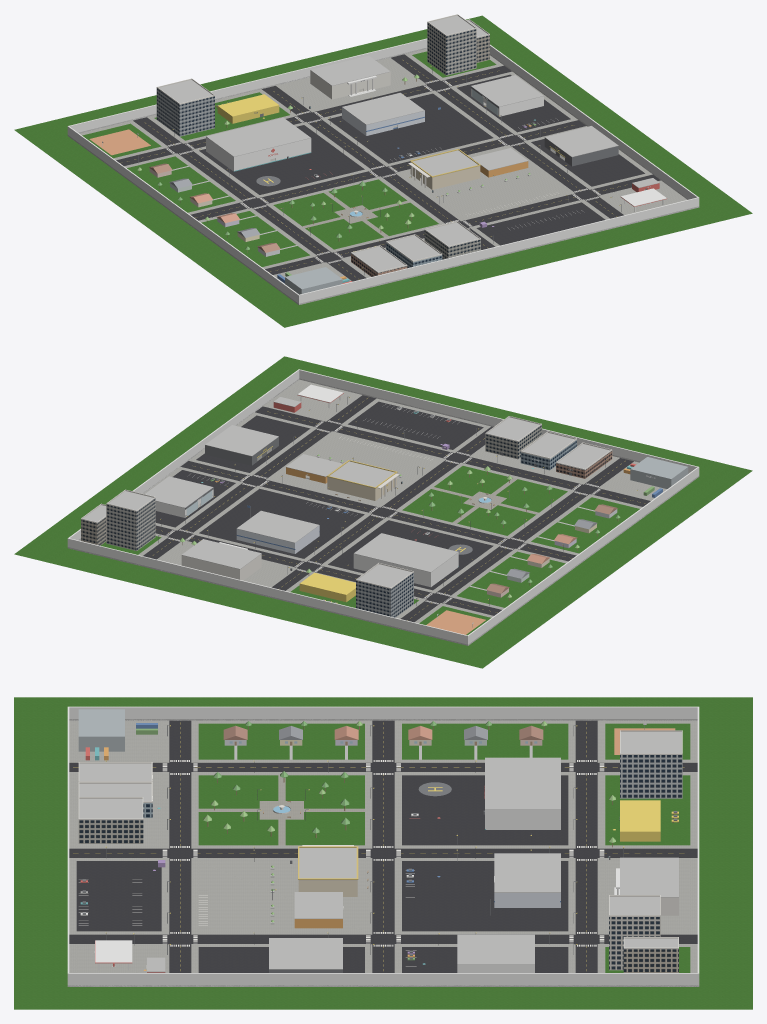
File: world.glb
3 views of the same model, one above another, from view 1: azimuth 30°, elevation 25°; view 2: azimuth 150°, elevation 25°; view 3: azimuth 270°, elevation 25° (orthographic). The views are drawn at different scales.
Visible parts, largest first — view 1: Grass, Asphalt, Plain, Concrete, COL_Plain, Facade, NOCOL_Plain; view 2: Grass, Asphalt, Plain, Concrete, COL_Plain, Facade, NOCOL_Plain; view 3: Grass, Asphalt, Plain, Concrete, COL_Plain, Facade, NOCOL_Plain.
Part boxes in pixels (left/top/right/bottom): Grass: left=14, top=15, right=752, bottom=327; Asphalt: left=116, top=54, right=660, bottom=281; Plain: left=67, top=14, right=699, bottom=304; Concrete: left=79, top=49, right=687, bottom=283; COL_Plain: left=67, top=38, right=699, bottom=303; Facade: left=156, top=23, right=489, bottom=276; NOCOL_Plain: left=89, top=60, right=666, bottom=279; Grass: left=14, top=356, right=752, bottom=668; Asphalt: left=143, top=395, right=650, bottom=622; Plain: left=67, top=378, right=699, bottom=645; Concrete: left=80, top=379, right=666, bottom=623; COL_Plain: left=67, top=369, right=699, bottom=645; Facade: left=81, top=425, right=612, bottom=617; NOCOL_Plain: left=153, top=393, right=645, bottom=634; Grass: left=14, top=697, right=752, bottom=1009; Asphalt: left=69, top=720, right=697, bottom=972; Plain: left=67, top=709, right=699, bottom=986; Concrete: left=69, top=720, right=697, bottom=972; COL_Plain: left=67, top=706, right=699, bottom=986; Facade: left=78, top=755, right=682, bottom=972; NOCOL_Plain: left=73, top=721, right=684, bottom=970.
Bounding box in the file's own units: 400 × 33.02 × 400.
Materials: 11 (4 with a texture image).
